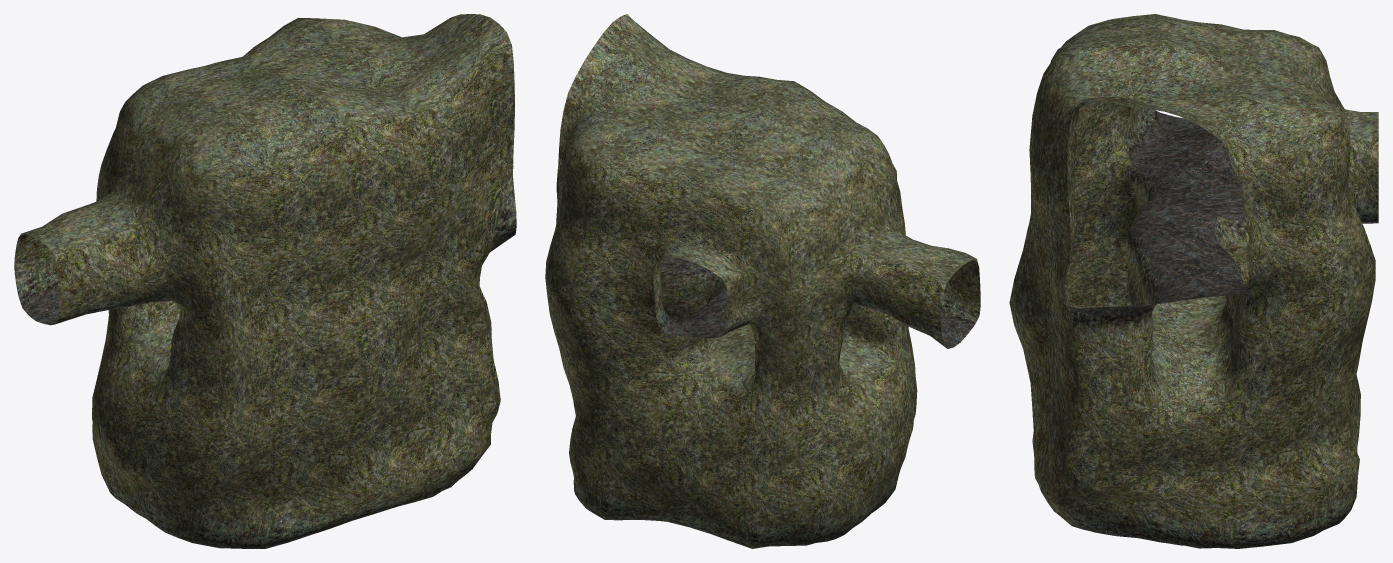
File: thm_all_cave_s01_damprock_r6_mesh_r6.fbx
3 views of the same model, side by side, from view 1: azimuth 30°, elevation 25°; view 2: azimuth 150°, elevation 25°; view 3: azimuth 270°, elevation 25° (orthographic). The views are drawn at different scales.
Parts seen in each view (by area): view 1: mesh_node; view 2: mesh_node; view 3: mesh_node.
Boxes of the visible parts, bbox=[...] form: mesh_node: bbox=[14, 14, 516, 548]; mesh_node: bbox=[545, 14, 980, 548]; mesh_node: bbox=[1009, 14, 1378, 548].
Bounding box in the file's own units: 55 × 58.14 × 39.83.
